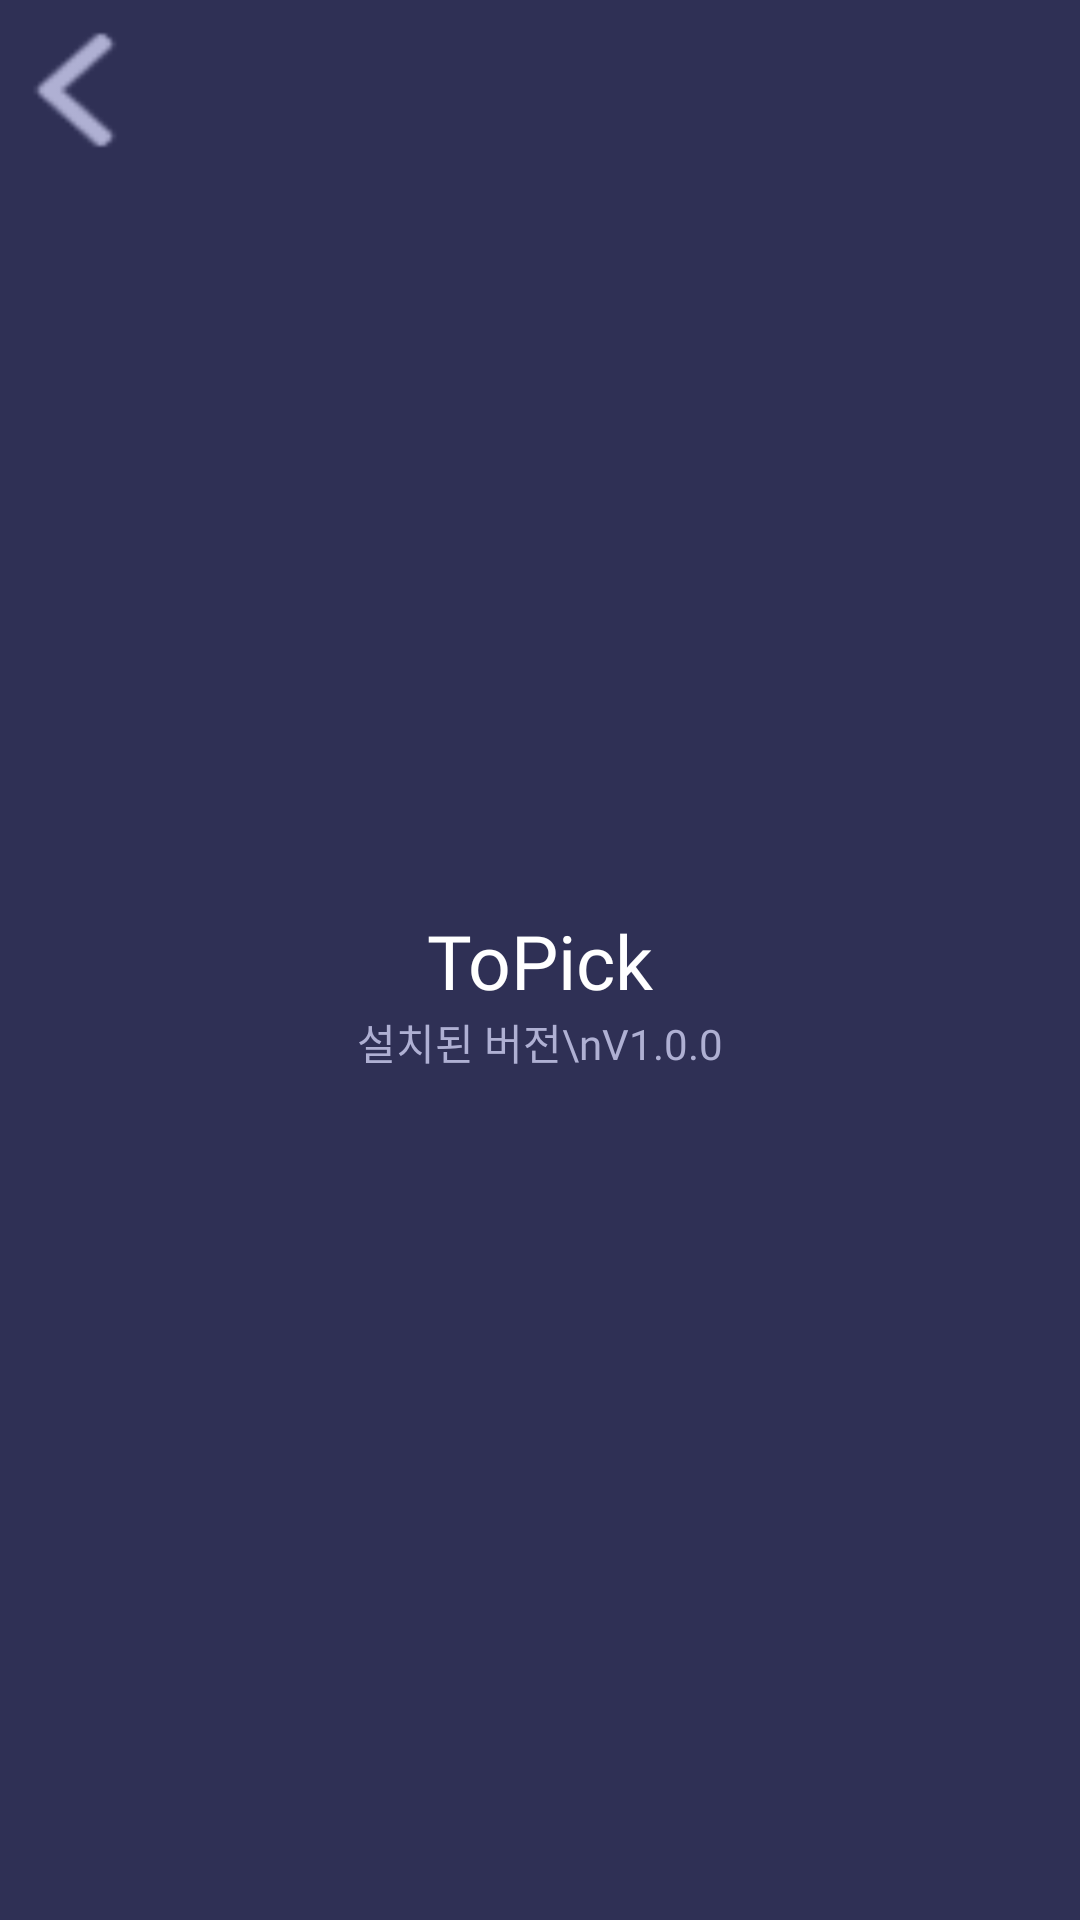

Screen size 1080px×1920px. Icon name, then its box in pixels as [x1,y1,x2,y2]:
back: [36,33,114,147]
